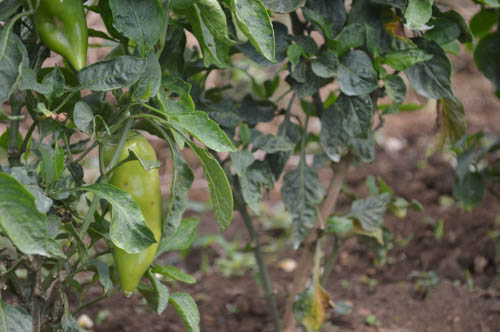ChiliPepper: (101, 136, 163, 308), (36, 6, 88, 75)
